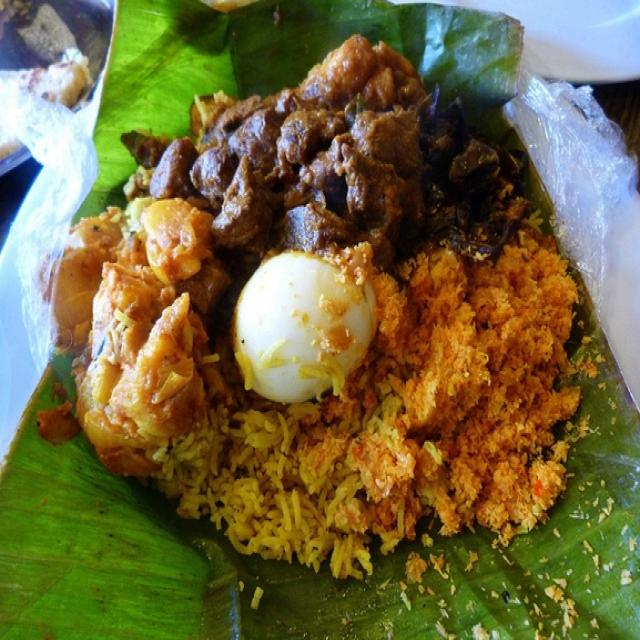米饭主食: (20, 15, 618, 618)
